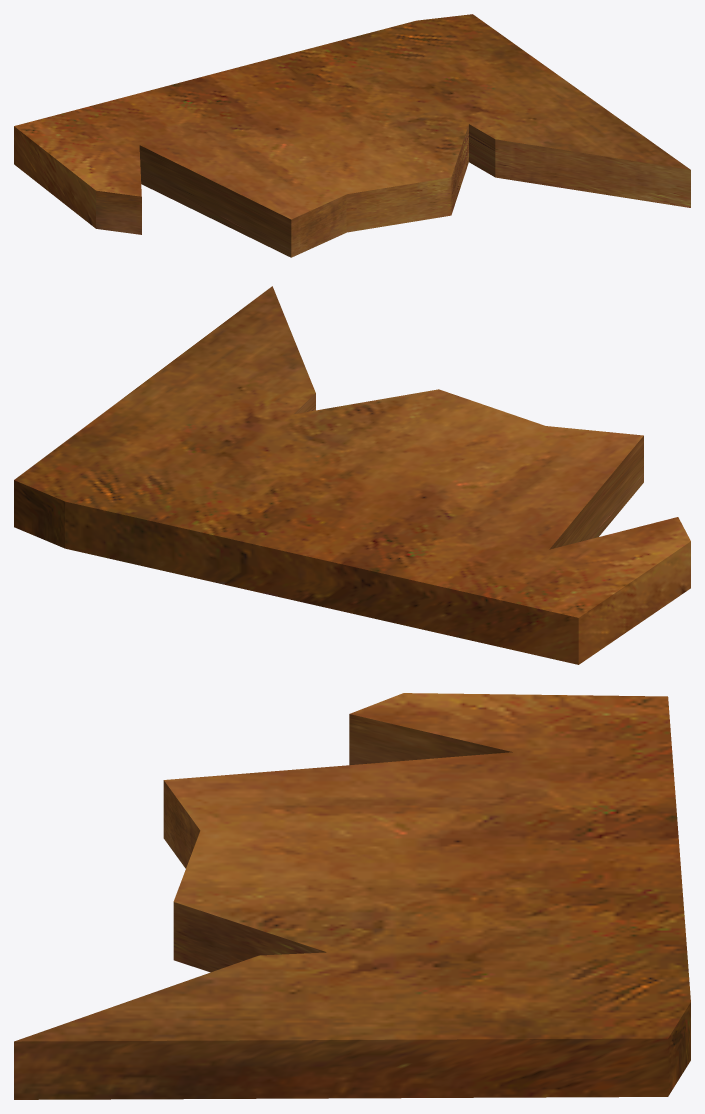
The model's file is bread_spatula_gib4.glb.
3 views of the same model, one above another, from view 1: azimuth 30°, elevation 25°; view 2: azimuth 150°, elevation 25°; view 3: azimuth 270°, elevation 25° (orthographic). The views are drawn at different scales.
Parts seen in each view (by area): view 1: bread_spatula_gib4; view 2: bread_spatula_gib4; view 3: bread_spatula_gib4.
Part boxes in pixels (left/top/right/bottom): bread_spatula_gib4: left=14, top=14, right=690, bottom=257; bread_spatula_gib4: left=14, top=286, right=690, bottom=664; bread_spatula_gib4: left=14, top=693, right=690, bottom=1099.
Size of the model in its own units: 0.2336 by 0.0183 by 0.1918.
1 material, 1 textured.
